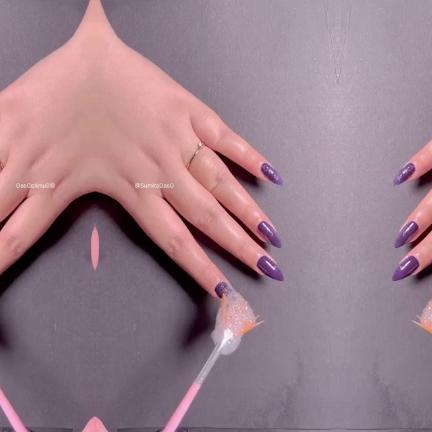Nail: (256, 255, 284, 281), (390, 255, 418, 281), (256, 221, 281, 248), (393, 221, 418, 248), (259, 162, 282, 186), (392, 162, 415, 186)
